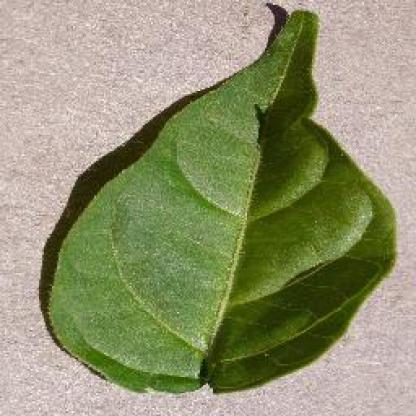good leaf: (57, 35, 367, 354)
